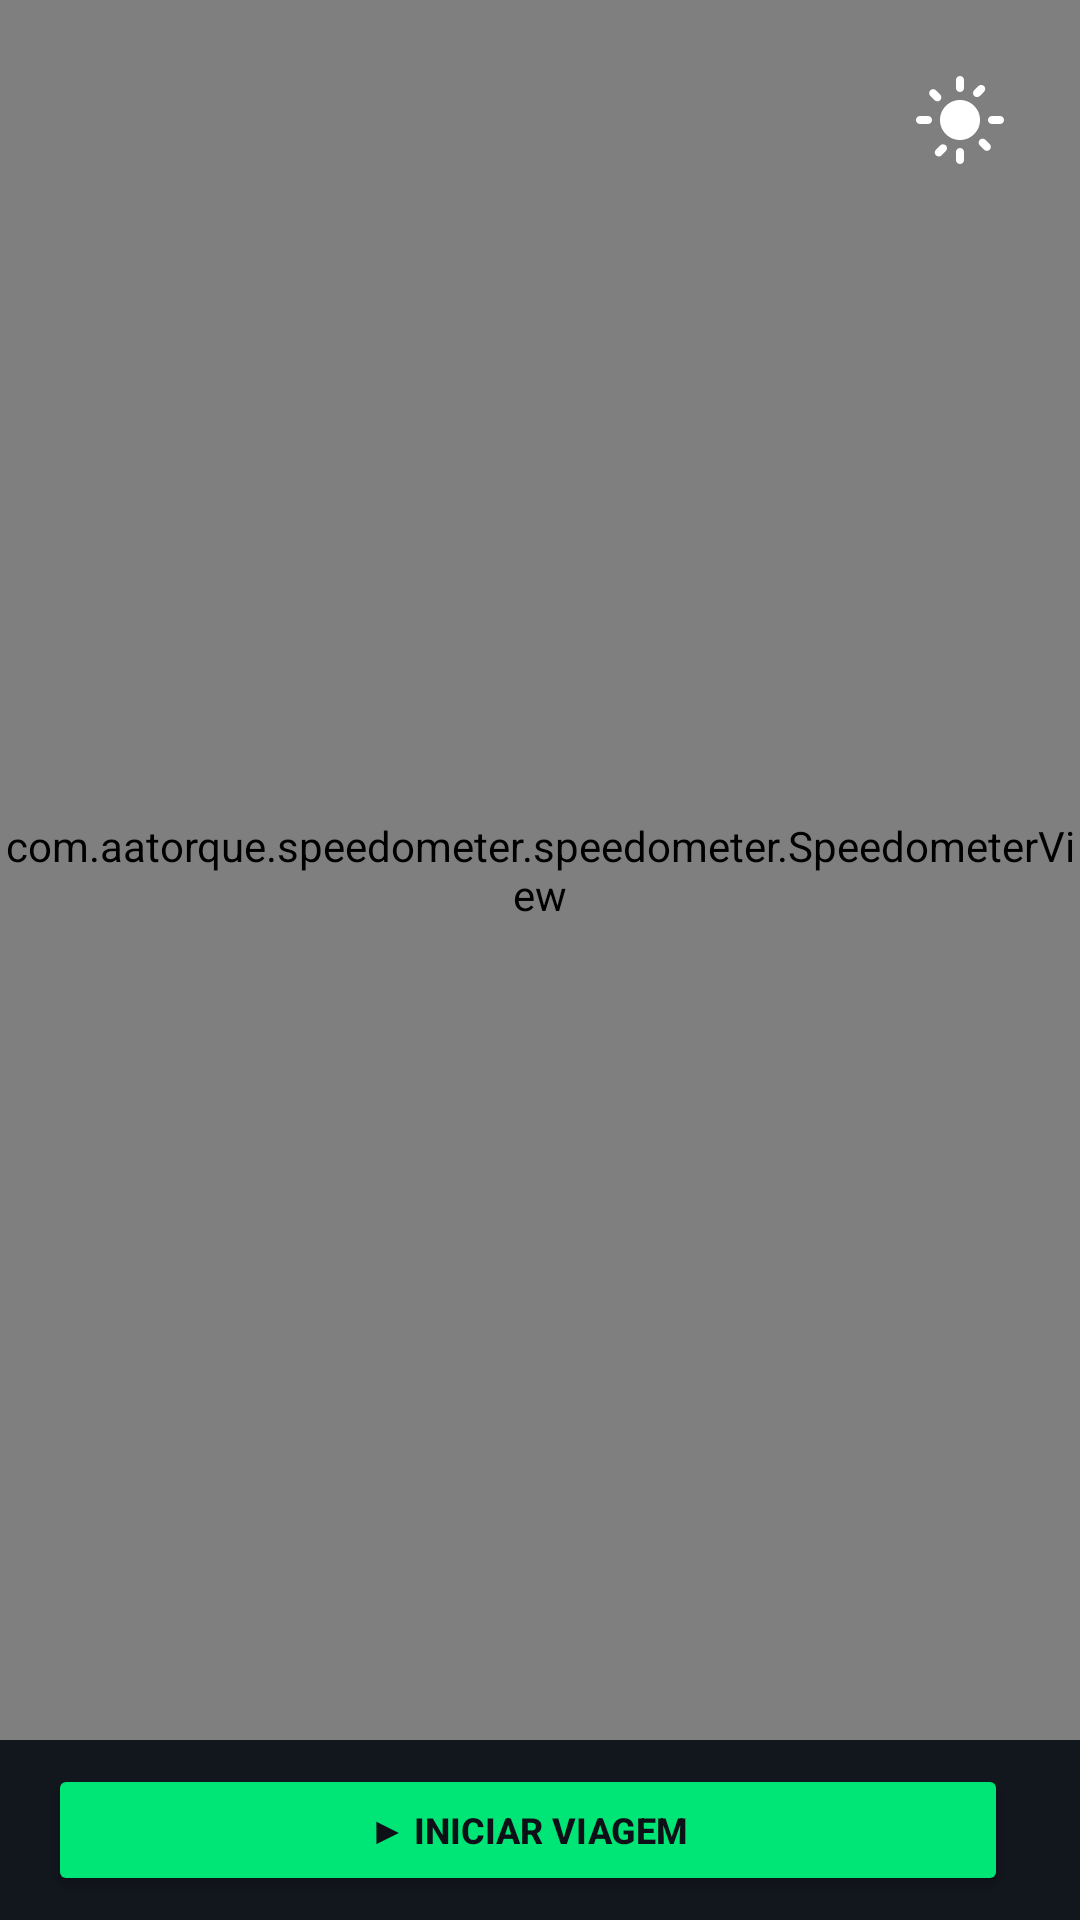

Icons on this 1080 x 1920 Android screen, each with its box as region(x1, y1, x2, y2):
Alternar Tema: region(916, 76, 1004, 164)
